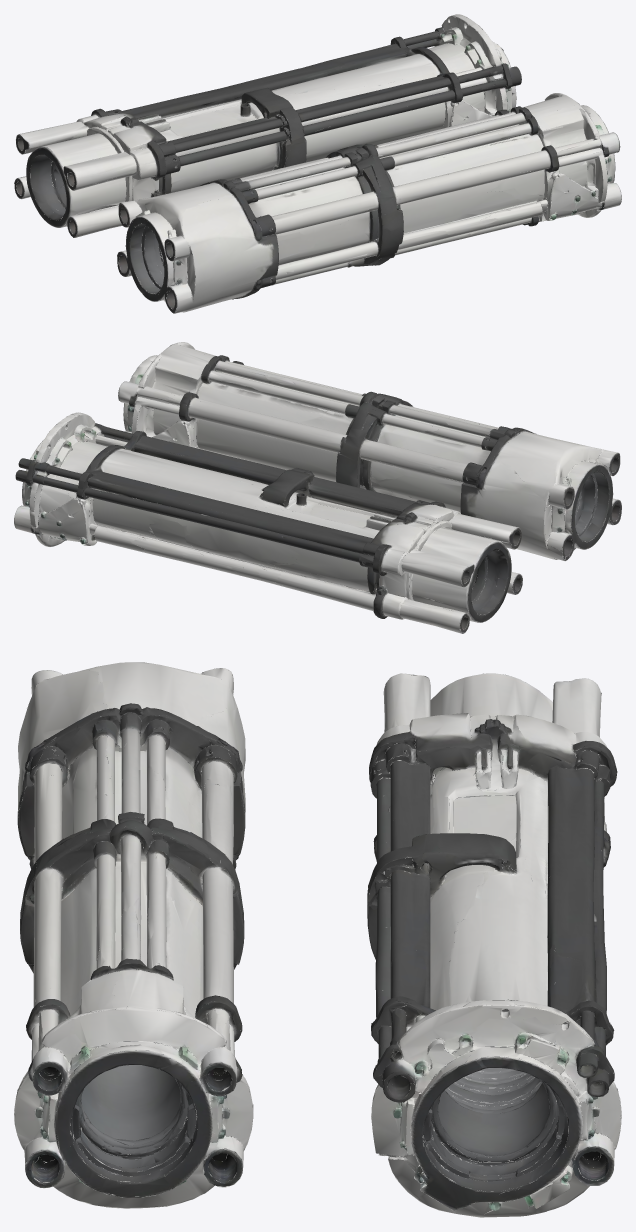
File: riser_qtr.glb
The picture shows the model from 3 angles, top to bottom: view 1: azimuth 30°, elevation 25°; view 2: azimuth 150°, elevation 25°; view 3: azimuth 270°, elevation 25°; orthographic projection. The views are drawn at different scales.
Parts seen in each view (by area): view 1: model; view 2: model; view 3: model.
Part boxes in pixels (box(x1,y1,x2,y2)): model: box(14, 14, 621, 313); model: box(14, 342, 621, 633); model: box(14, 662, 621, 1217).
Size of the model in its own units: 1.9 by 0.4935 by 1.25.
1 material, 1 textured.
